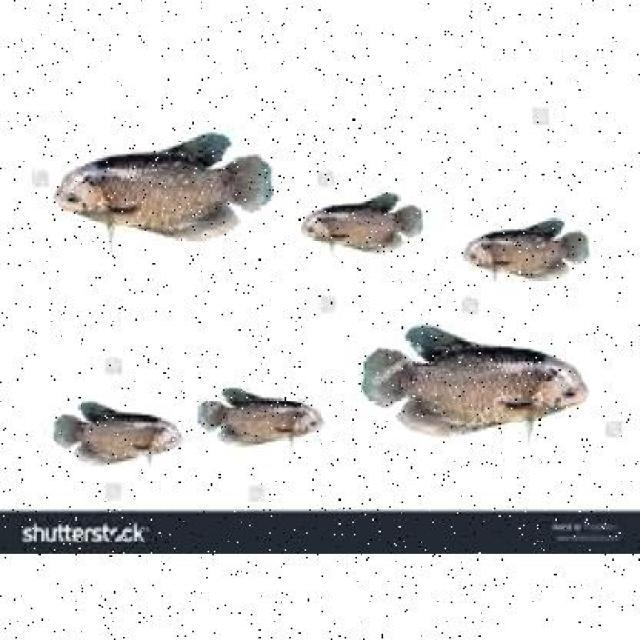gurame: (370, 326, 592, 446), (48, 138, 266, 240), (456, 218, 590, 284), (194, 386, 328, 452), (54, 400, 178, 466), (303, 194, 420, 258)
